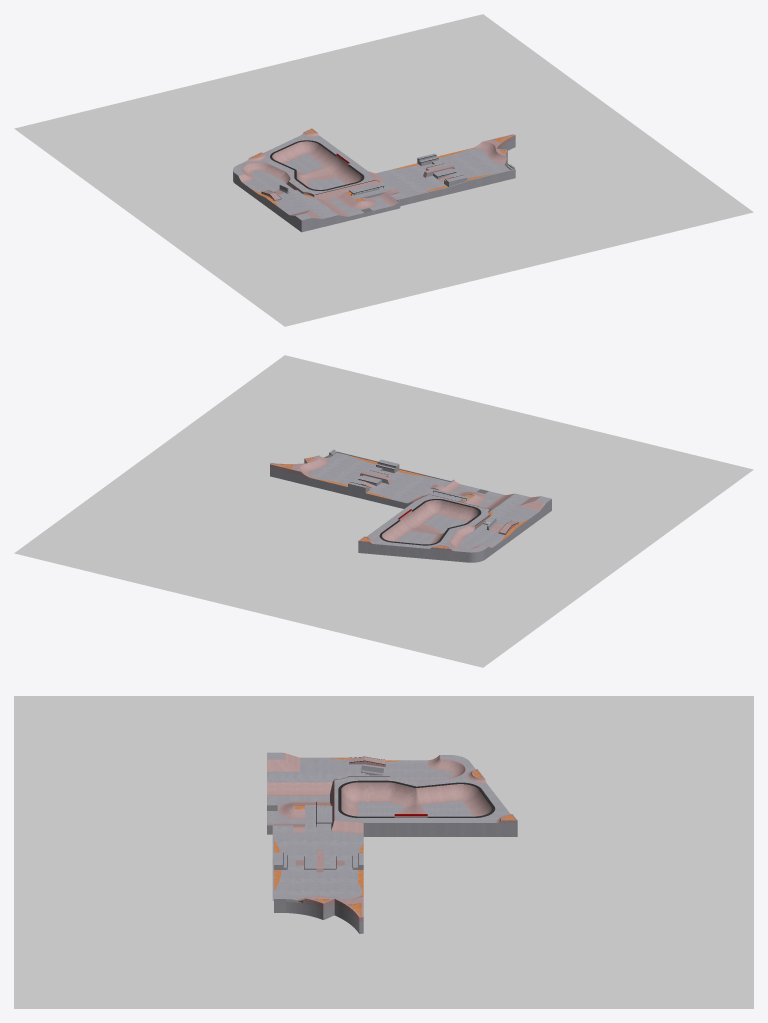
3 views of the same model, one above another, from view 1: azimuth 30°, elevation 25°; view 2: azimuth 150°, elevation 25°; view 3: azimuth 270°, elevation 25° (orthographic). The views are drawn at different scales.
Visible parts, largest first — view 1: SatImage, Concrete_Grey, Concrete_Red, Coping, Landscaping; view 2: SatImage, Concrete_Grey, Concrete_Red, Coping, Landscaping; view 3: SatImage, Concrete_Grey, Concrete_Red, Coping, Landscaping.
Part boxes in pixels (bbox=[...]): SatImage: bbox=[14, 14, 753, 326]; Concrete_Grey: bbox=[233, 135, 515, 232]; Concrete_Red: bbox=[238, 128, 515, 218]; Coping: bbox=[261, 140, 461, 212]; Landscaping: bbox=[251, 129, 512, 206]; SatImage: bbox=[14, 355, 753, 667]; Concrete_Grey: bbox=[270, 449, 551, 562]; Concrete_Red: bbox=[270, 455, 545, 550]; Coping: bbox=[350, 462, 518, 545]; Landscaping: bbox=[272, 455, 528, 548]; SatImage: bbox=[14, 696, 753, 1008]; Concrete_Grey: bbox=[267, 752, 517, 933]; Concrete_Red: bbox=[267, 753, 517, 922]; Coping: bbox=[267, 756, 495, 868]; Landscaping: bbox=[274, 757, 514, 916].
Bounding box in the file's own units: 81.66 × 2.23 × 81.66.
